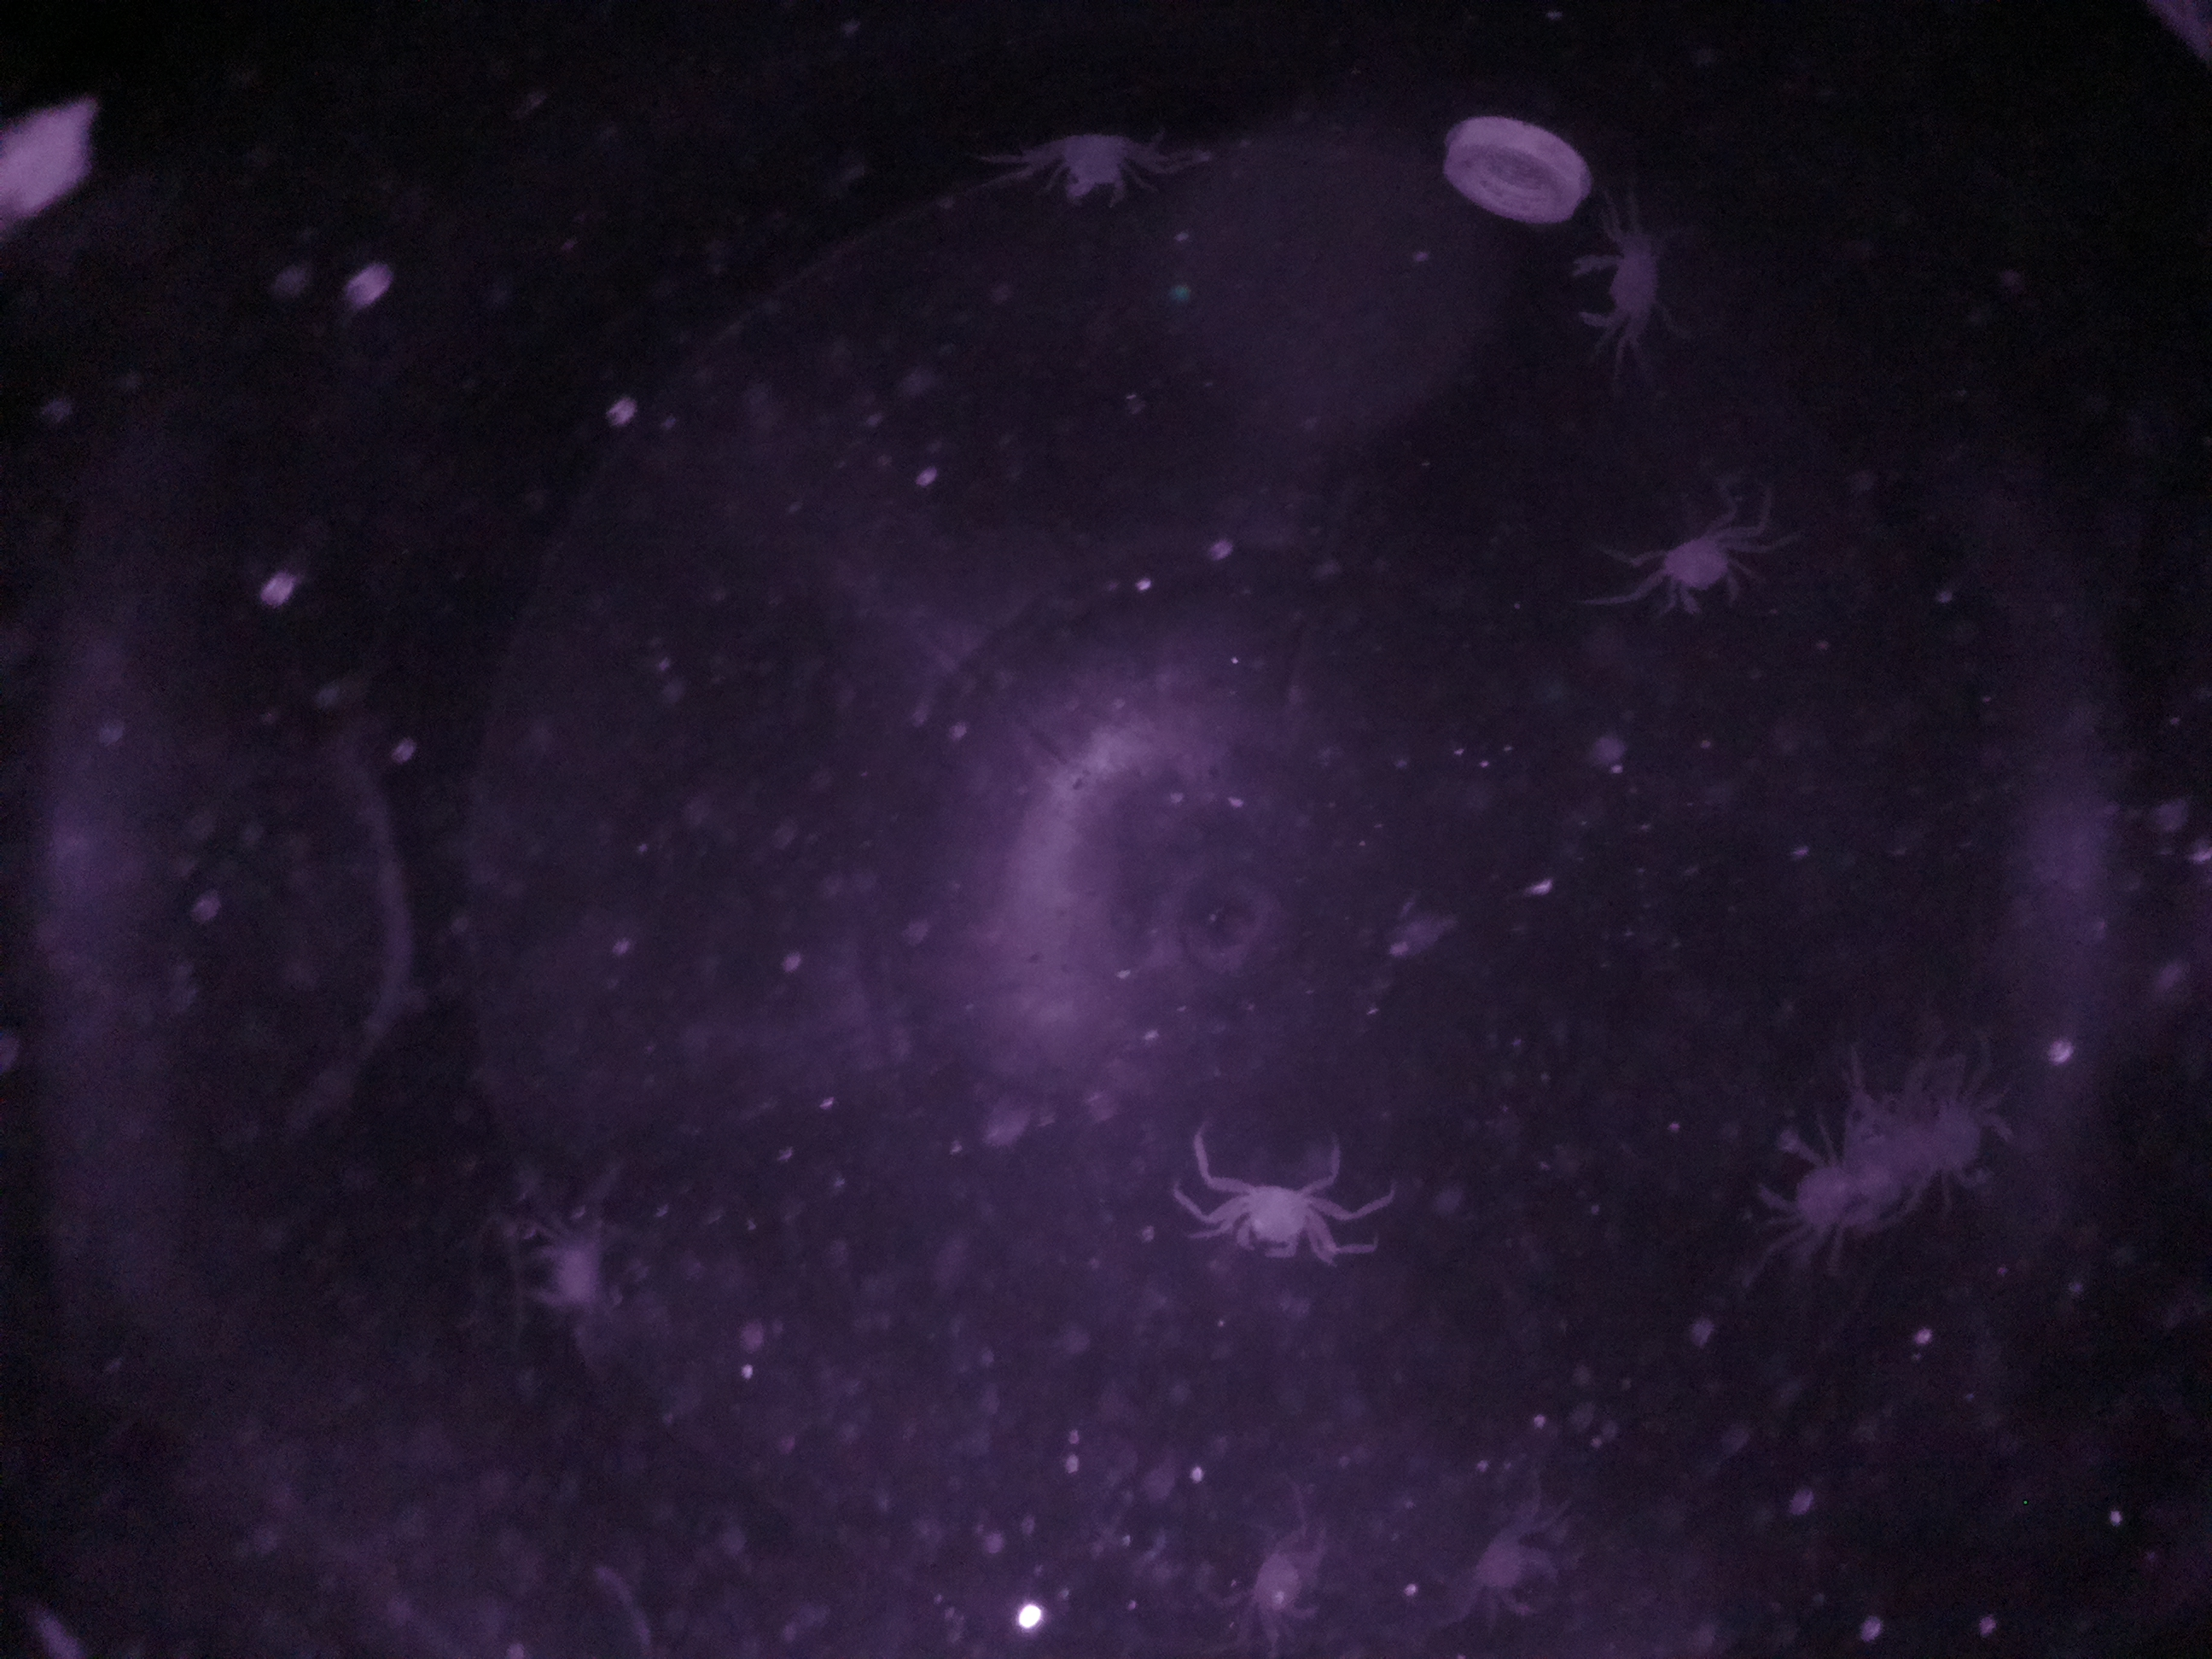Crab: (1550, 232, 1693, 350), (1460, 1513, 1583, 1633), (1221, 1150, 1329, 1288), (1629, 518, 1759, 627), (1035, 105, 1148, 228)
